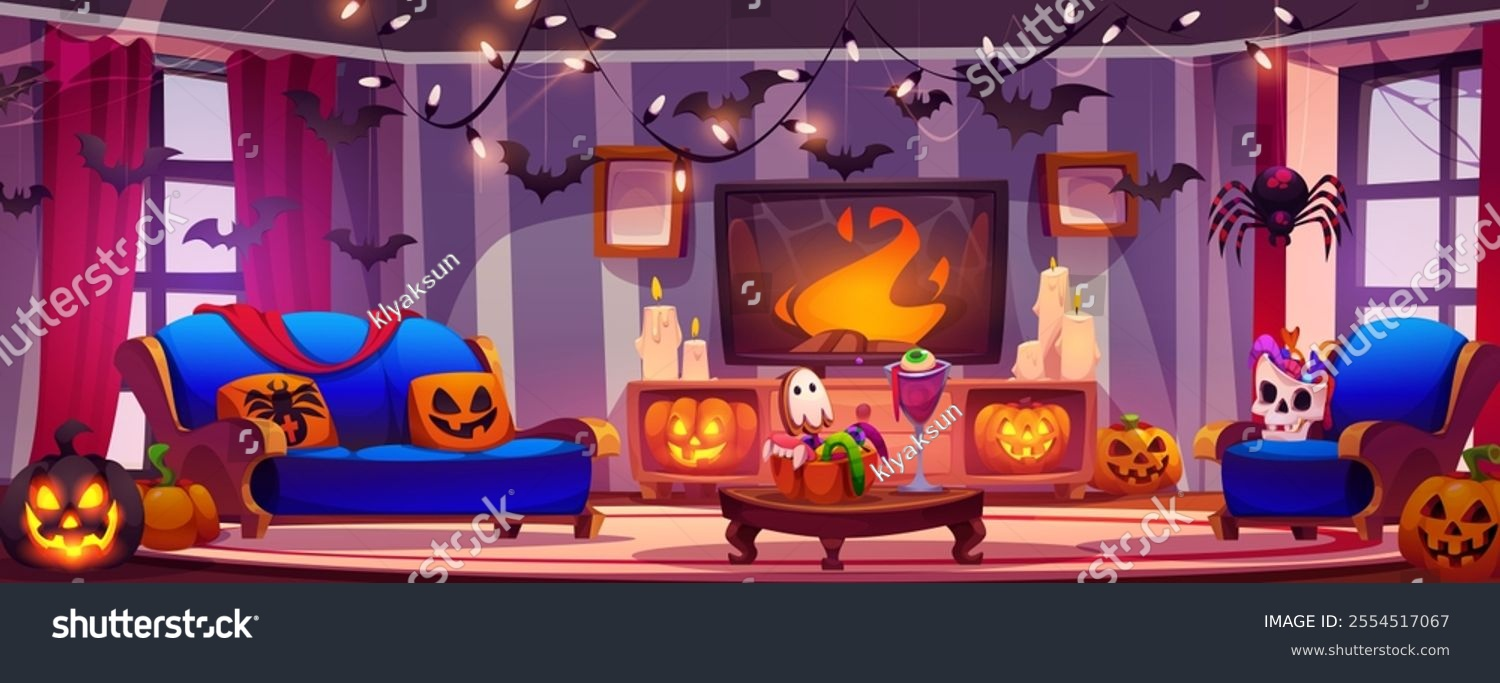not a gesture sign: (550, 141, 1083, 538)
